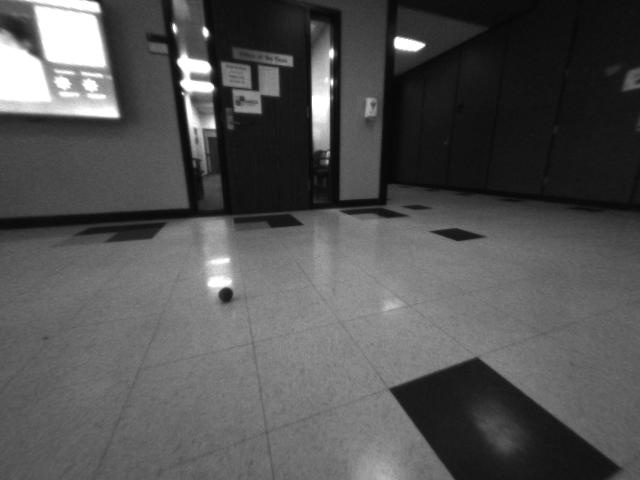dogtoy: (214, 279, 240, 307)
